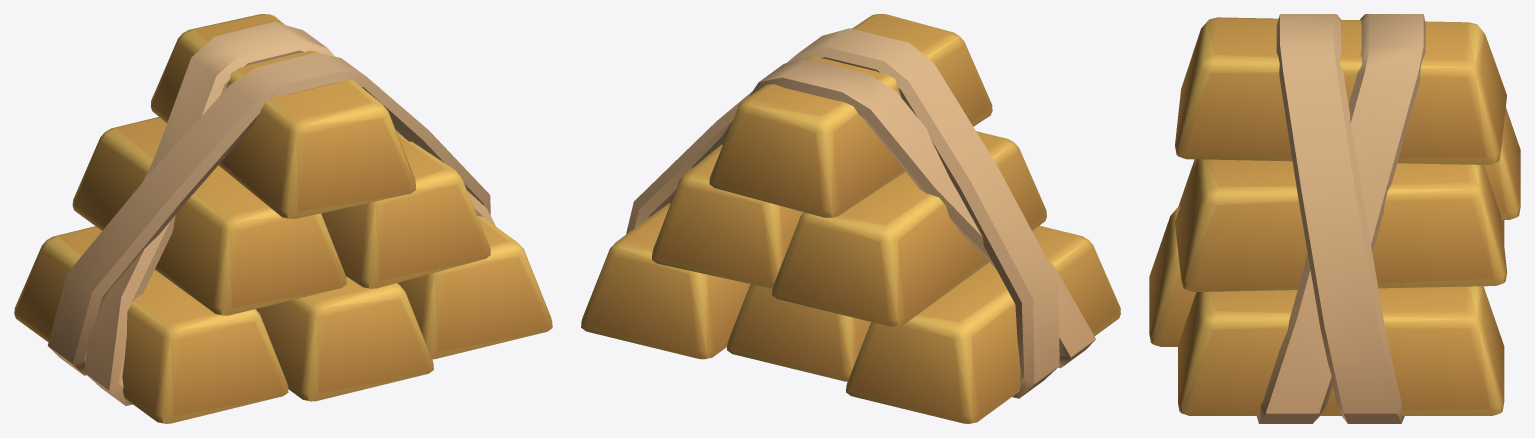
The model's file is gold-bars.glb.
3 renders of one model, left to right at view 1: azimuth 30°, elevation 25°; view 2: azimuth 150°, elevation 25°; view 3: azimuth 270°, elevation 25°, orthographic. The views are drawn at different scales.
Parts seen in each view (by area): view 1: Gold_Bars; view 2: Gold_Bars; view 3: Gold_Bars.
Part boxes in pixels (box(x1,y1,x2,y2)): Gold_Bars: box(14, 14, 552, 423); Gold_Bars: box(581, 14, 1120, 423); Gold_Bars: box(1149, 14, 1520, 423).
Size of the model in its own units: 1.27 by 0.7897 by 0.9106.
Materials: 1 (1 with a texture image).
